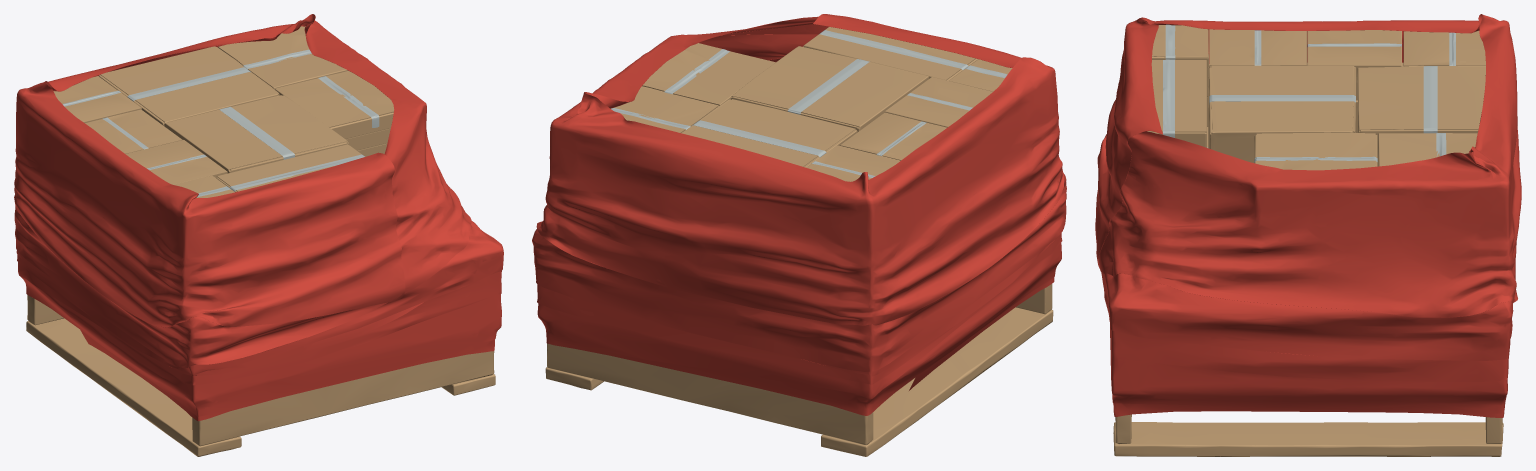
Rendered from pallet_assembly_red_a01.glb.
3 views of the same model, side by side, from view 1: azimuth 30°, elevation 25°; view 2: azimuth 150°, elevation 25°; view 3: azimuth 270°, elevation 25° (orthographic). The views are drawn at different scales.
Bounding box in the file's own units: 0.6652 × 0.4999 × 0.6602.
